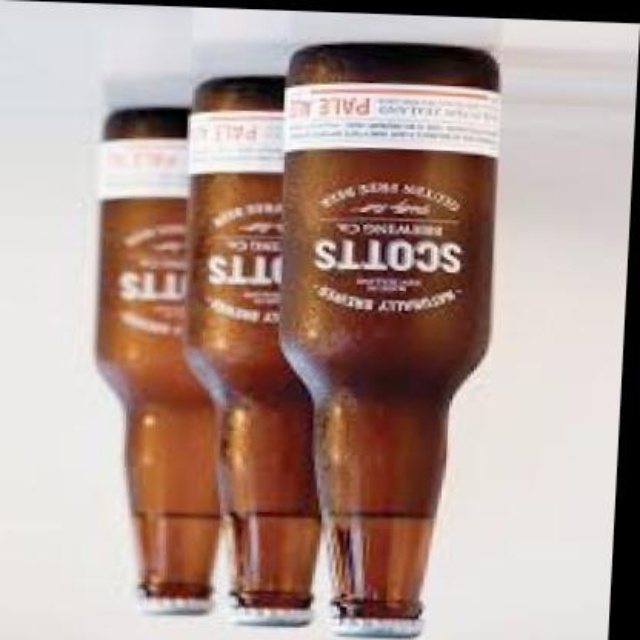trash: (280, 43, 500, 635), (188, 77, 318, 623), (97, 108, 218, 612)
